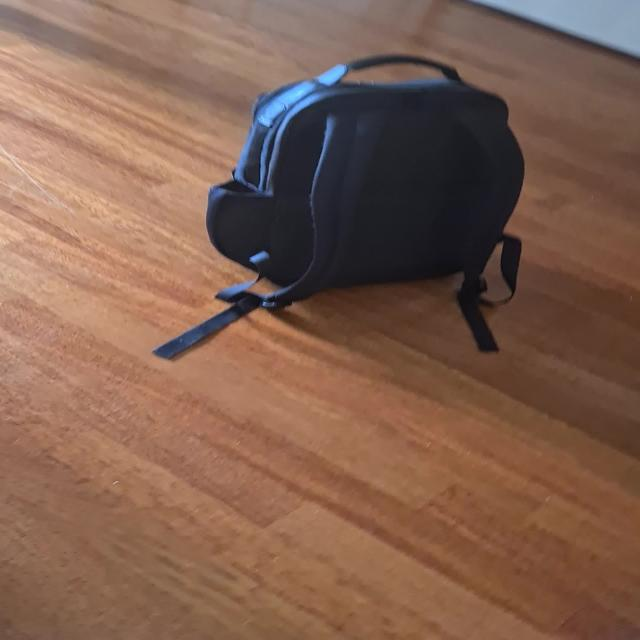backpack: (192, 48, 537, 312)
